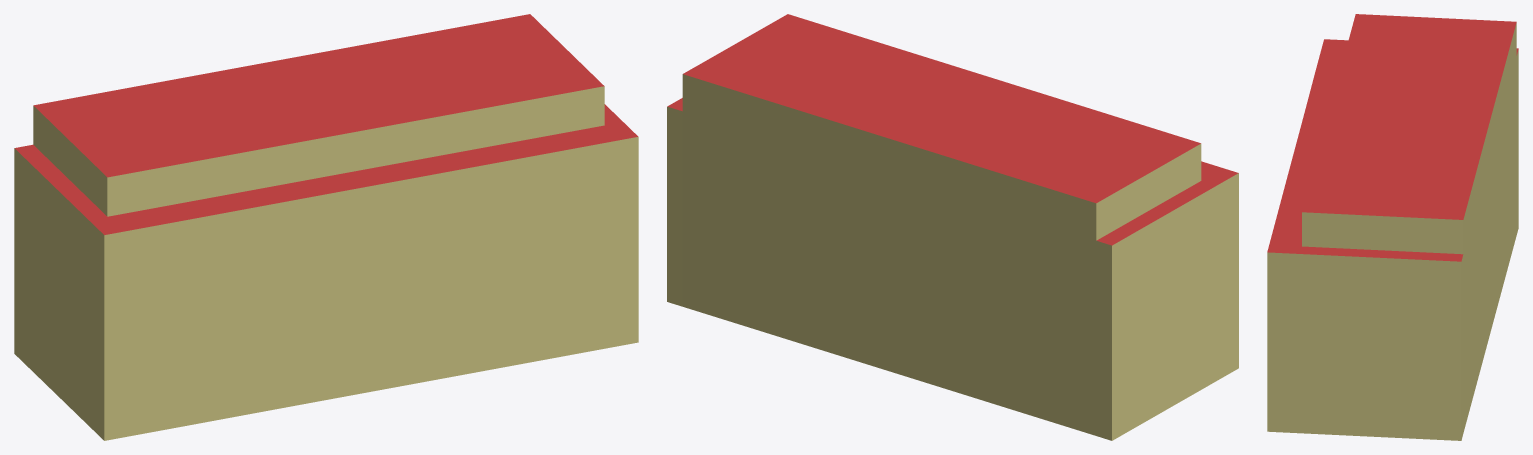
3 renders of one model, left to right at view 1: azimuth 30°, elevation 25°; view 2: azimuth 150°, elevation 25°; view 3: azimuth 270°, elevation 25°, orthographic. The views are drawn at different scales.
Parts seen in each view (by area): view 1: group_4, group_6, group_7, group_3; view 2: group_7, group_6, group_4, group_3; view 3: group_4, group_6, group_7, group_3.
Boxes of the visible parts, bbox=[...] form: group_4: bbox=[14, 136, 638, 440]; group_6: bbox=[33, 14, 604, 177]; group_7: bbox=[33, 86, 604, 216]; group_3: bbox=[14, 104, 637, 234]; group_7: bbox=[682, 74, 1201, 435]; group_6: bbox=[683, 14, 1200, 203]; group_4: bbox=[667, 106, 1238, 440]; group_3: bbox=[667, 98, 1238, 245]; group_4: bbox=[1267, 50, 1518, 440]; group_6: bbox=[1302, 14, 1516, 219]; group_7: bbox=[1302, 23, 1516, 432]; group_3: bbox=[1267, 39, 1518, 261].
Size of the model in its own units: 31.36 by 14.98 by 14.03.
